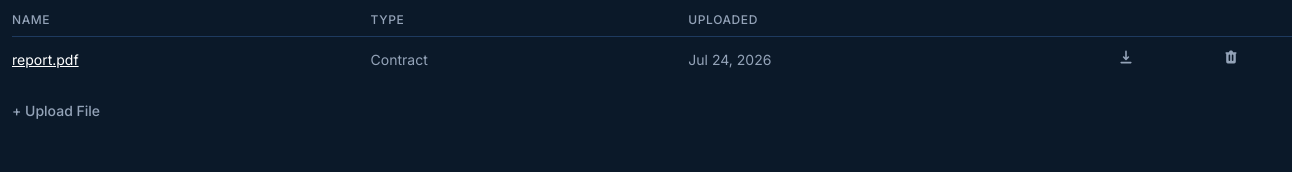
it: removes file from list on successful delete
The image size is (1292, 172).
Expected: the link "report.pdf" is shown, [12,50,79,68]
Click the button named "Delete file".
click(1230, 57)  # box [1222,49,1238,65]
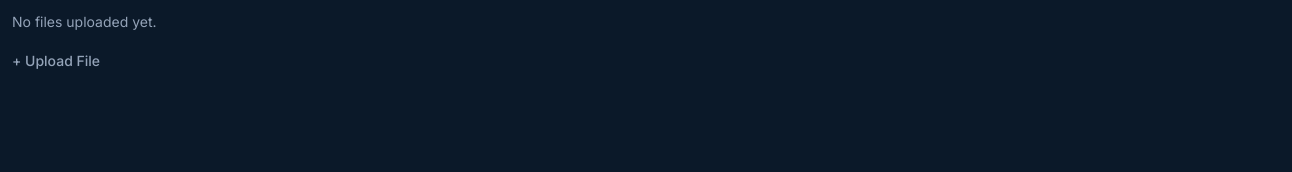
Expected: the link "report.pdf" is gone
Expected: the text "No files uploaded yet." is shown, [12,13,157,30]
